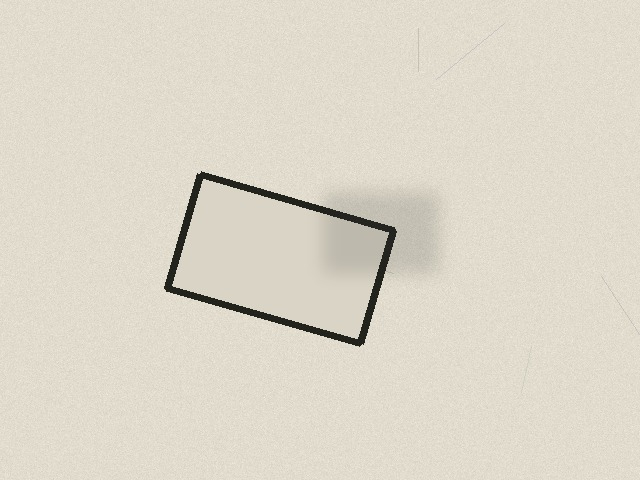parking_area: (167, 174, 393, 343)
